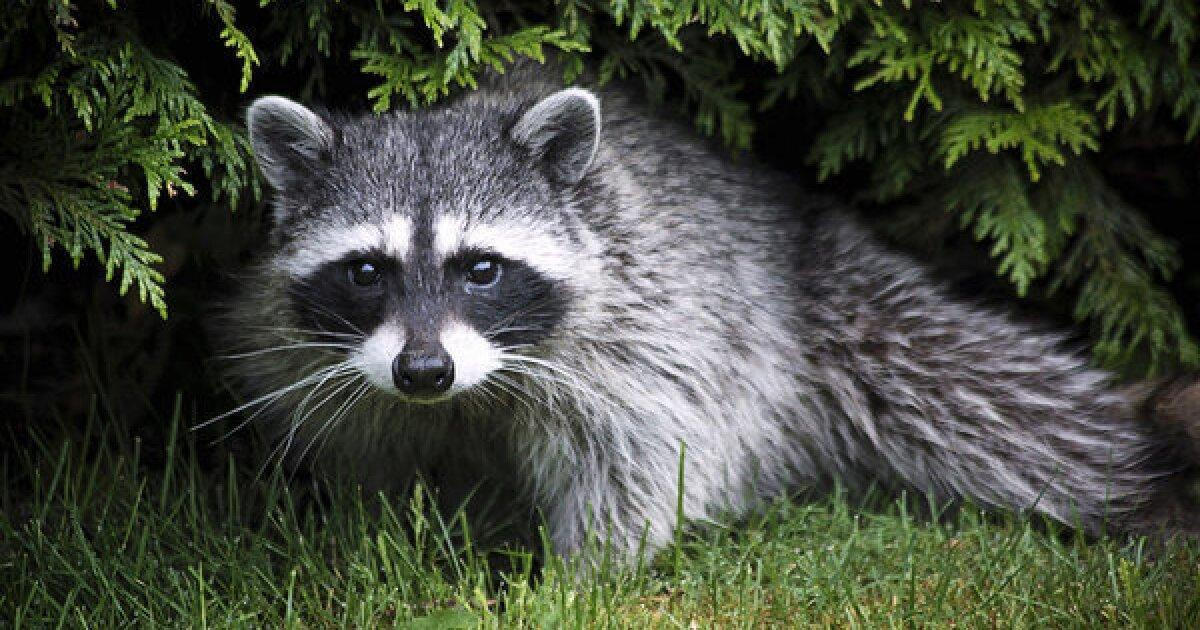raccoon: (199, 55, 1200, 588)
